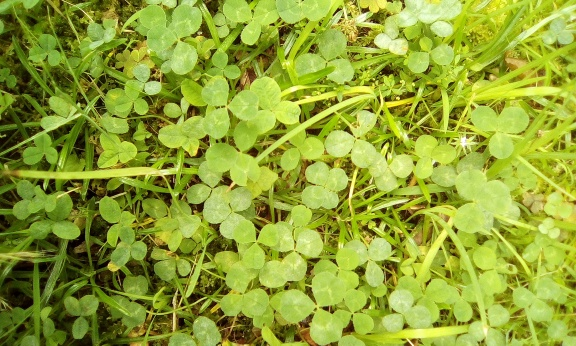4leaf: (301, 161, 348, 210)
